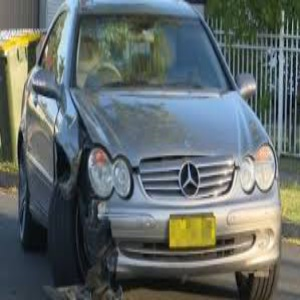bumper: (72, 241, 137, 300)
